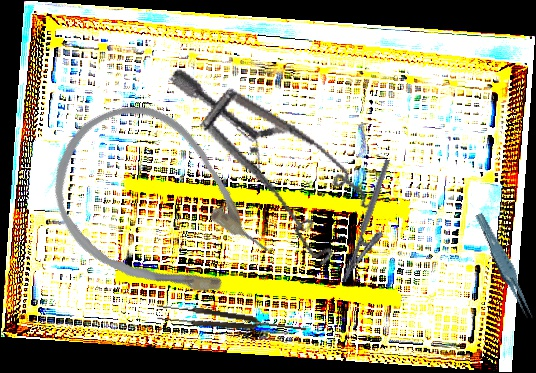Cannula: (22, 76, 297, 342)
Needle Holder: (340, 158, 408, 290)
Speculum: (133, 66, 401, 276)
Tissue Forceps: (474, 209, 535, 325), (156, 302, 308, 340)
